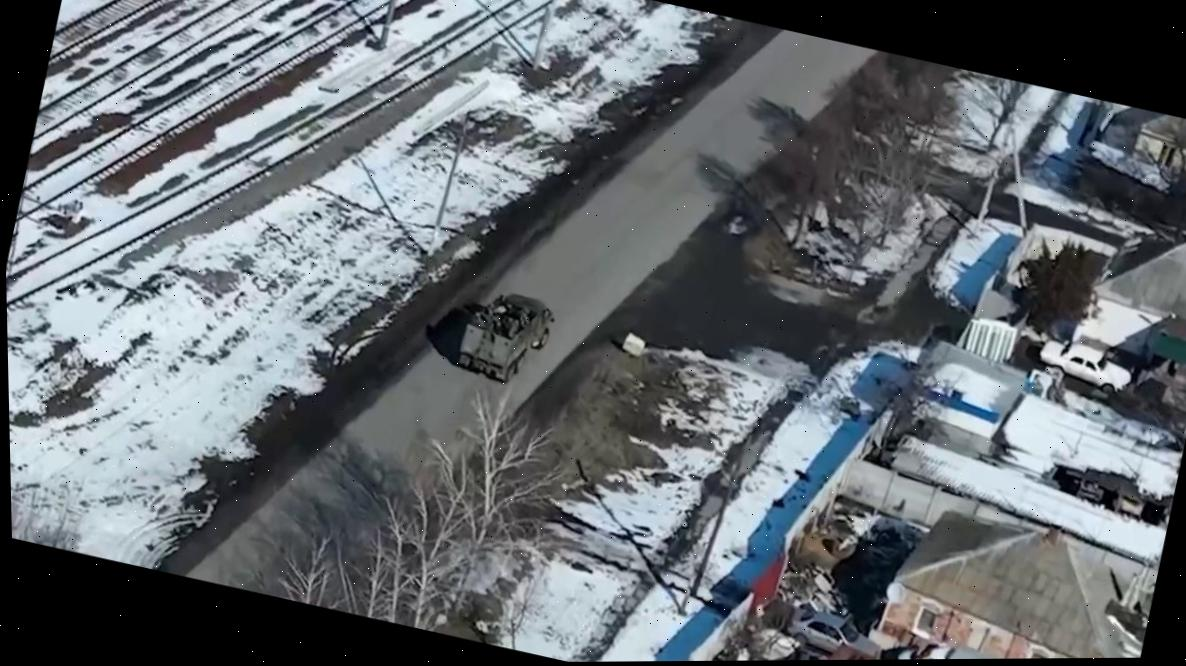car: (1032, 334, 1137, 399), (781, 601, 889, 660)
truck: (451, 281, 561, 392)
